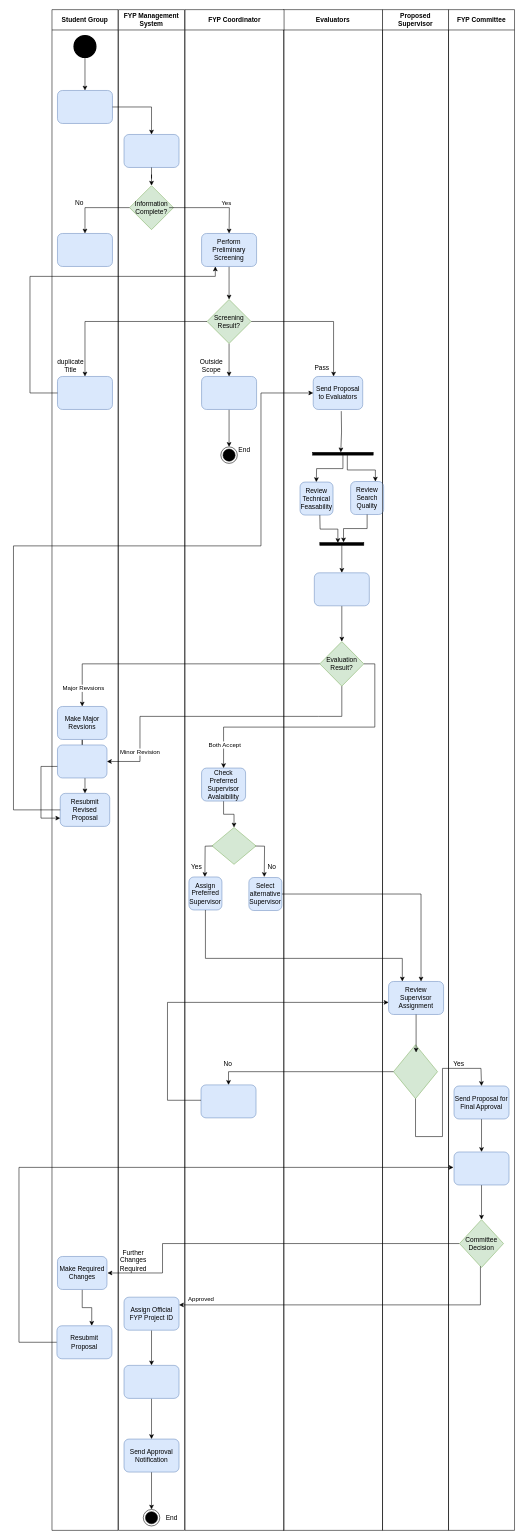
This 524x1540 diagram has some shape labels left out. The centre of each missing label's shape, as x and y in pixels:
"Accept Assignment?" goes at (x=415, y=1071).
"Assign Another Supervisor" goes at (x=228, y=1101).
"Check Mandatory Fields & Documents" goes at (x=151, y=150).
"Consolidate Evaluation Reports" goes at (x=341, y=589).
"Correct Missing Information" goes at (x=84, y=249).
"Decline Proposal" goes at (x=229, y=392).
"Make Minor Revisions" goes at (x=82, y=761).
"Register Project and Update Records" goes at (x=151, y=1381).
"Review Proposal for Final Approval" goes at (x=481, y=1168).
"Revise Project Title" goes at (x=84, y=392).
"Submit Proposal" goes at (x=84, y=106).
"Supervisor Available?" goes at (x=233, y=845).
